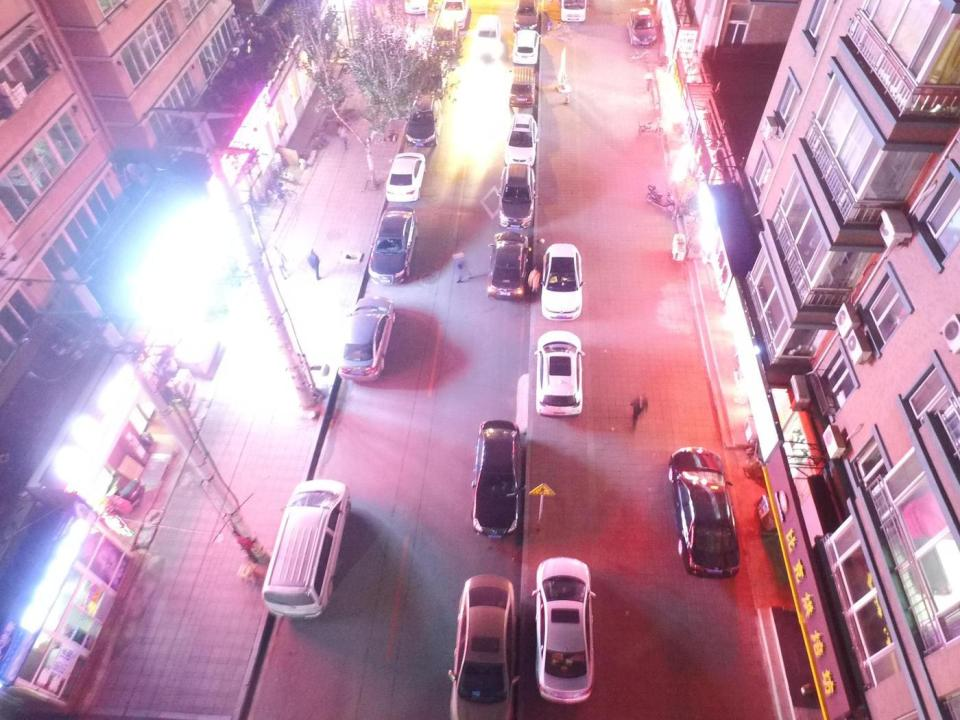car: (449, 573, 519, 720), (667, 445, 741, 580), (534, 556, 595, 706), (472, 419, 522, 539), (336, 294, 396, 383), (535, 329, 583, 417), (367, 206, 419, 286), (540, 242, 583, 322), (486, 230, 529, 302), (498, 162, 535, 229), (384, 151, 427, 202), (403, 92, 443, 146), (503, 111, 538, 168), (416, 57, 449, 100), (625, 7, 658, 45), (511, 27, 540, 64), (438, 0, 469, 30), (513, 0, 538, 30), (403, 0, 428, 14)
van: (261, 478, 351, 621), (473, 13, 501, 58), (509, 66, 536, 108), (430, 16, 458, 55), (560, 0, 587, 22)
